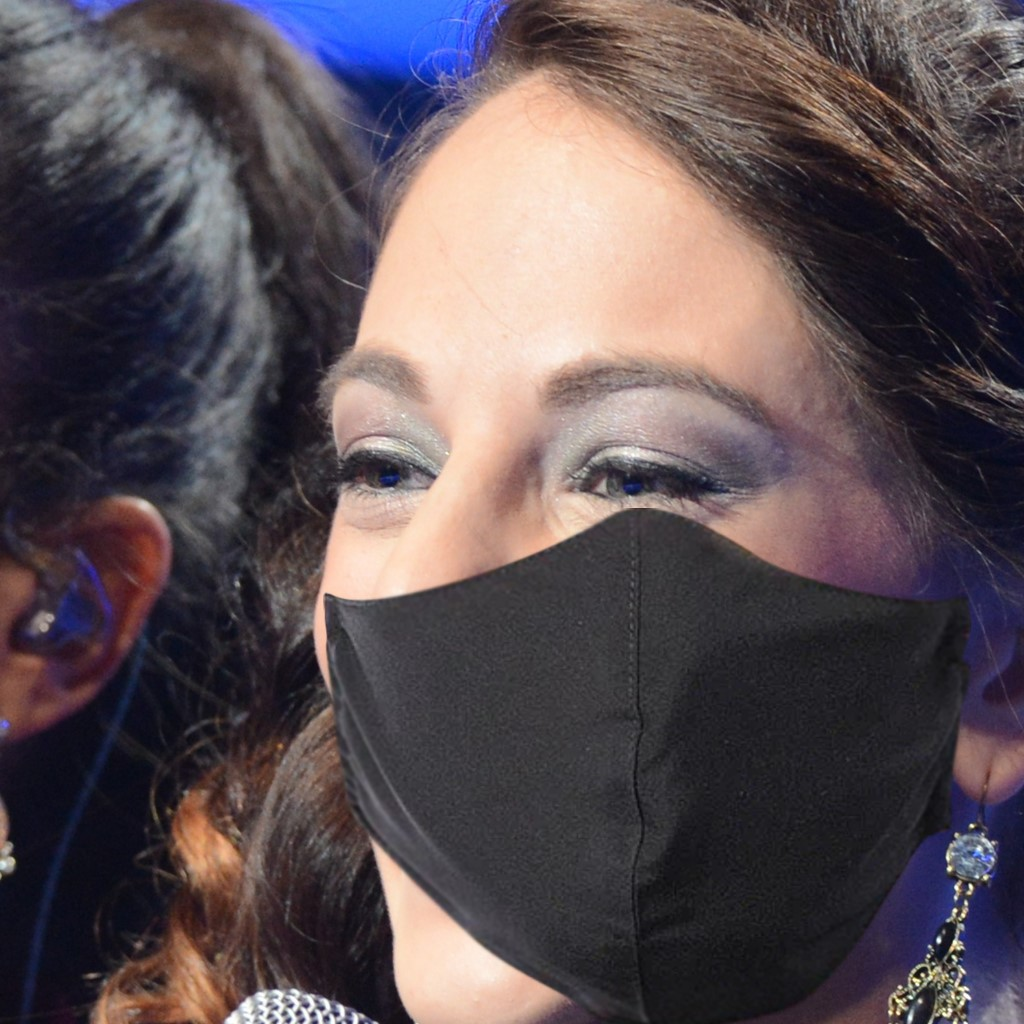con_mascara: (302, 144, 912, 1001)
